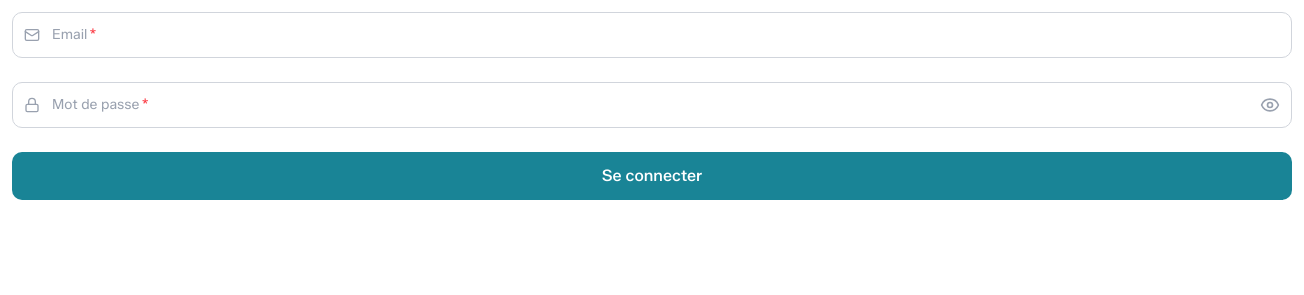
Test: LoginForm › displays API error message on failed login
This screenshot has width=1304, height=295.
// Fill valid form
Type "test@example.com" into the field with test id "email-input" at (652, 35), box [12,12,1292,58]
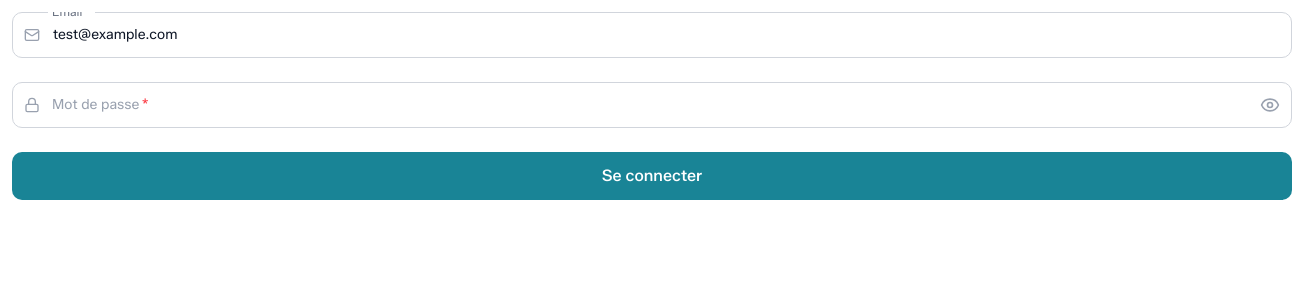
Type "wrongpassword" into the password field with test id "password-input" at (652, 105), box [12,82,1292,128]
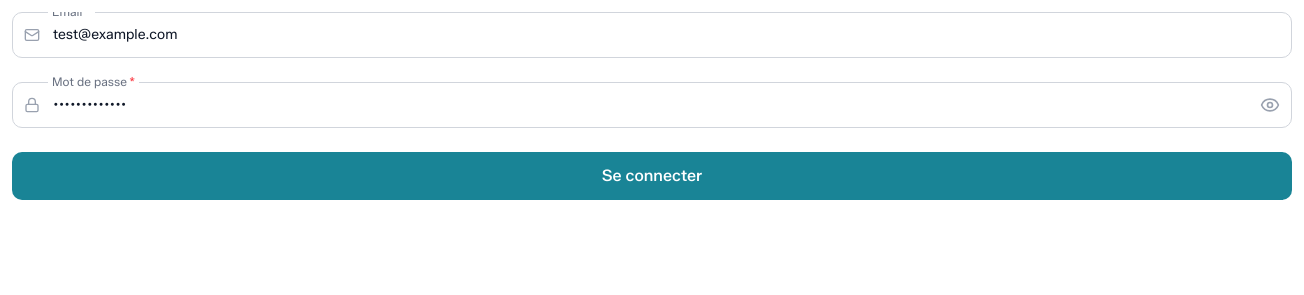
// Submit form
Submit the form
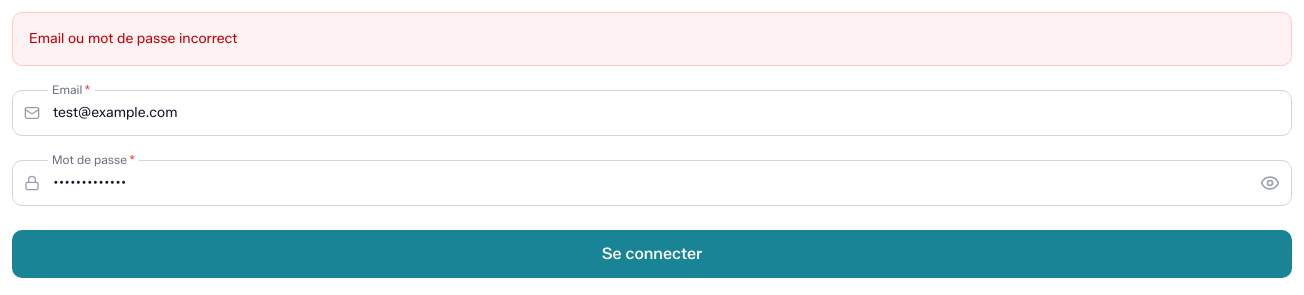
Check: the message "Email ou mot de passe incorrect" is shown, box [12,12,1292,66]
Check: the message with test id "api-error" reads "Email ou mot de passe incorrect", box [29,30,237,47]
